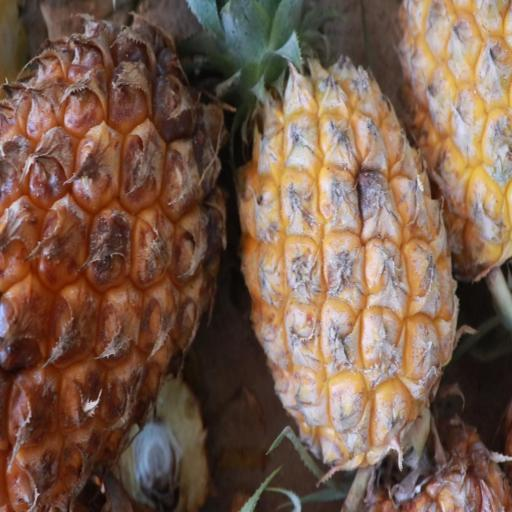Pineapple - v8 v1: (0, 0, 234, 512), (234, 22, 459, 500)
